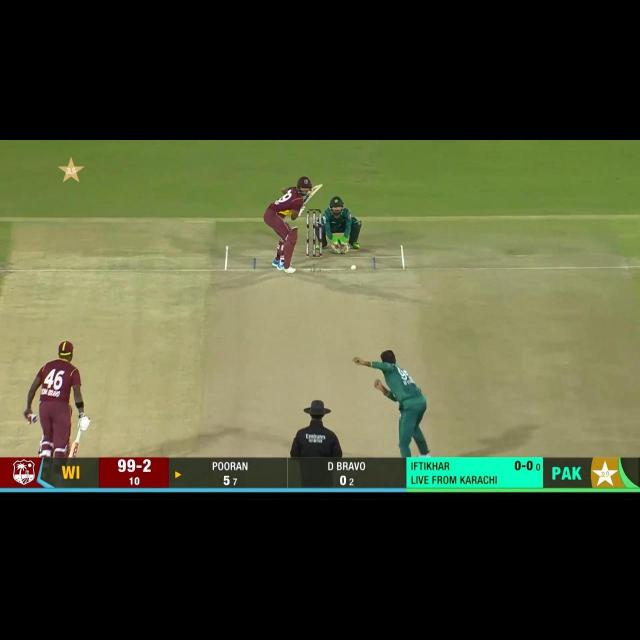bat: (300, 180, 322, 211), (68, 442, 81, 459)
toe: (314, 184, 322, 192)
